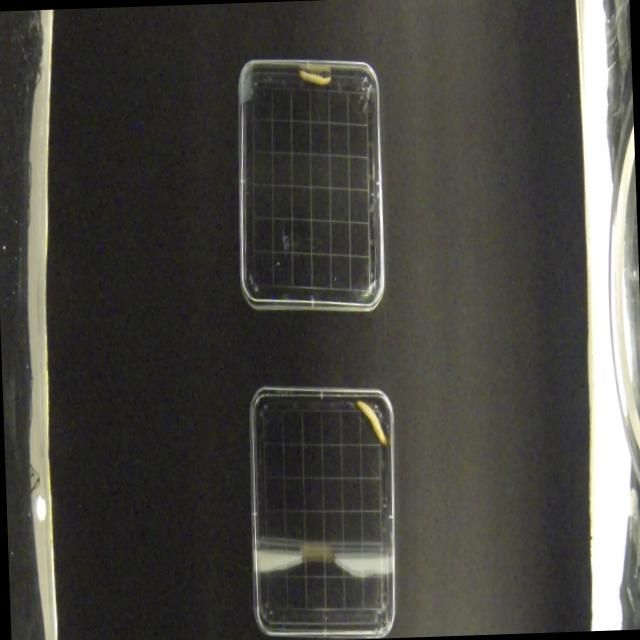larva: (356, 397, 386, 448), (298, 67, 332, 92)
